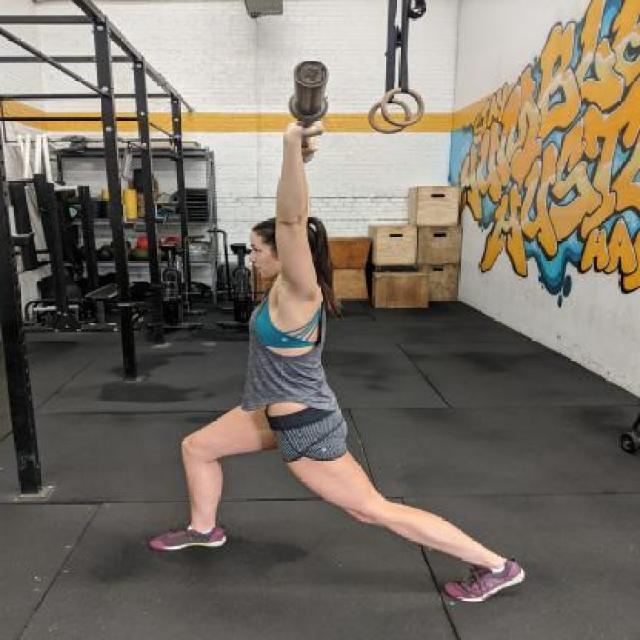Barbell: (292, 58, 334, 88)
